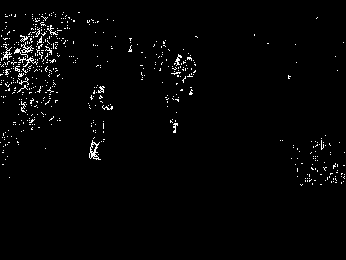person: (88, 84, 112, 160)
